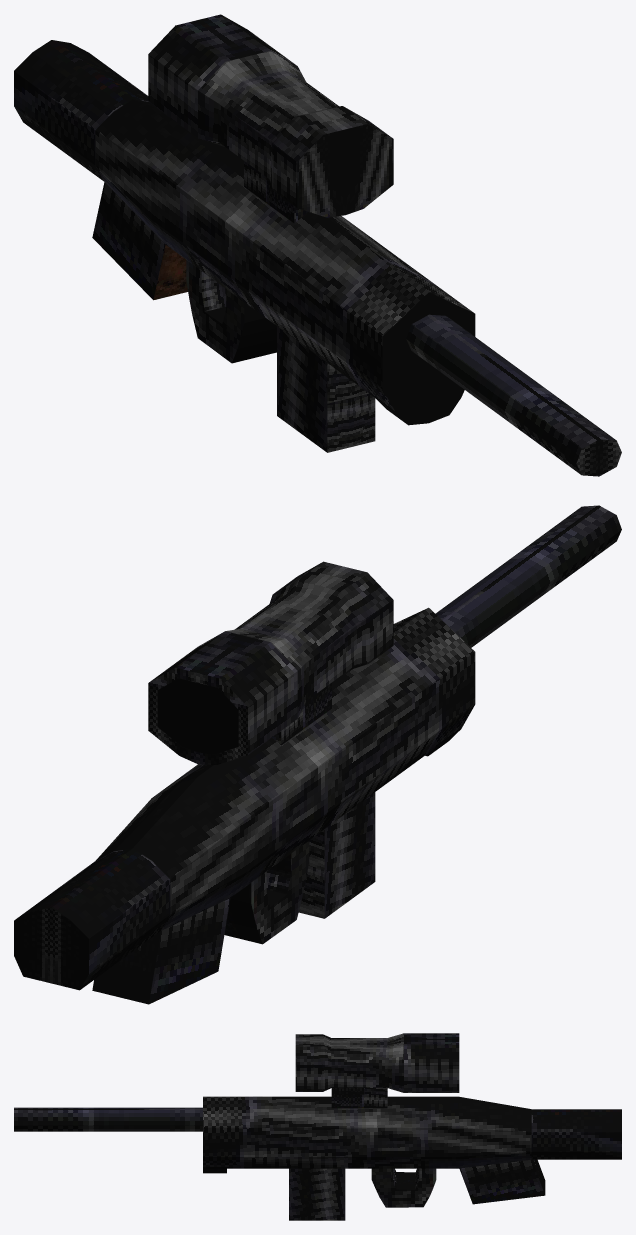
Rendered from sniper.glb.
3 views of the same model, one above another, from view 1: azimuth 30°, elevation 25°; view 2: azimuth 150°, elevation 25°; view 3: azimuth 270°, elevation 25° (orthographic). The views are drawn at different scales.
Parts seen in each view (by area): view 1: Cube.001; view 2: Cube.001; view 3: Cube.001.
Boxes of the visible parts, x1,y1,x2,y2 form: Cube.001: [14, 14, 621, 476]; Cube.001: [14, 505, 621, 1004]; Cube.001: [14, 1033, 621, 1220].
Size of the model in its own units: 2.28 by 6.87 by 21.66.
1 material, 1 textured.
